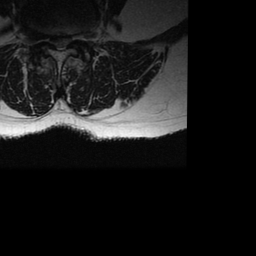CCS_severe_stenosis: (58, 31, 63, 54)
LFS_stenosis: (70, 27, 77, 46)
LLS_stenosis: (63, 30, 70, 51)
RFS_stenosis: (44, 30, 52, 48)
RLS_severe_stenosis: (52, 30, 58, 51)
